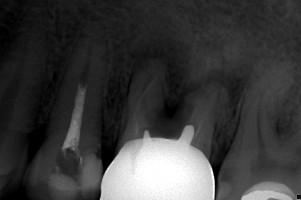Dental Caries: (143, 37, 202, 119), (202, 68, 249, 115)
Endo-Periodontal Lesion: (275, 118, 294, 136)
